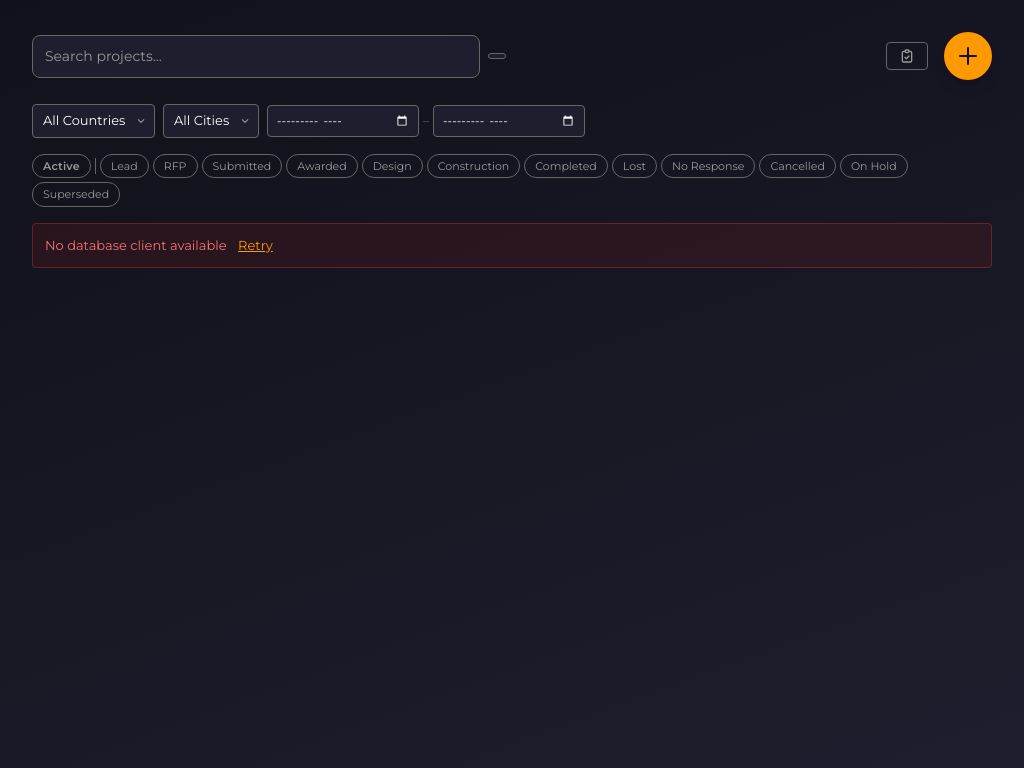
Test: Projects page - load error visibility › retries the load when the Retry button is clicked, clearing the error on success
The width and height of the screenshot is (1024, 768).
Click the button "Retry": [255, 245] box left=238, top=236, right=273, bottom=255
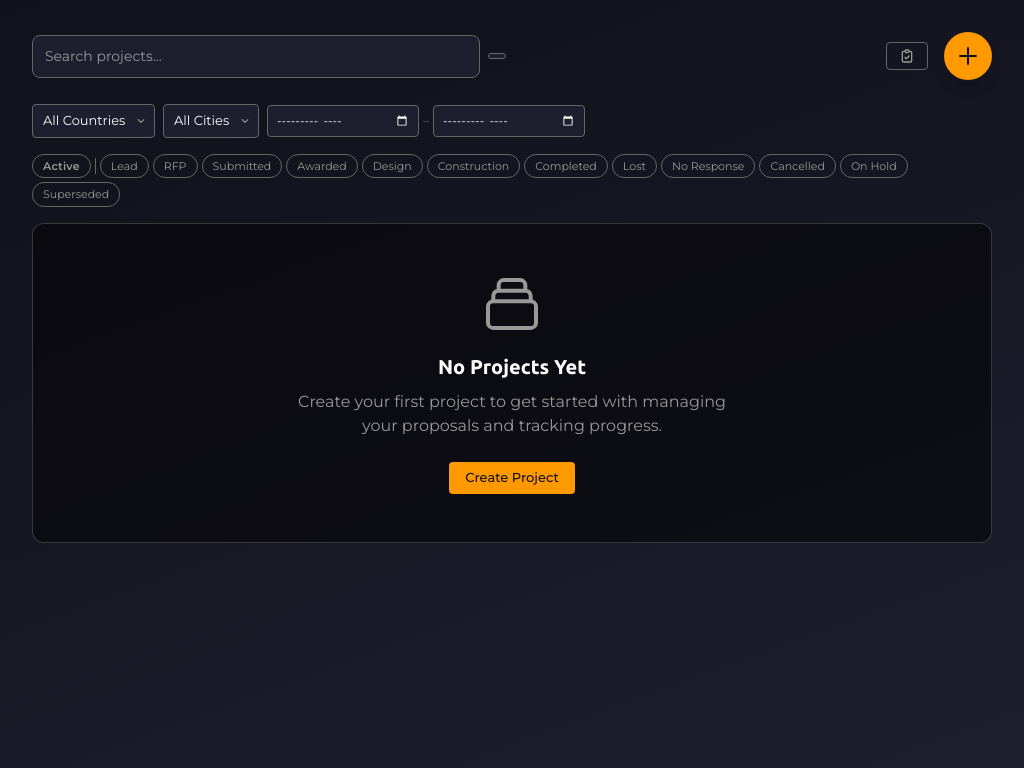
expect the text "No database client available" is gone: met
expect the heading "No Projects Yet" is shown: met, box left=438, top=352, right=586, bottom=382
